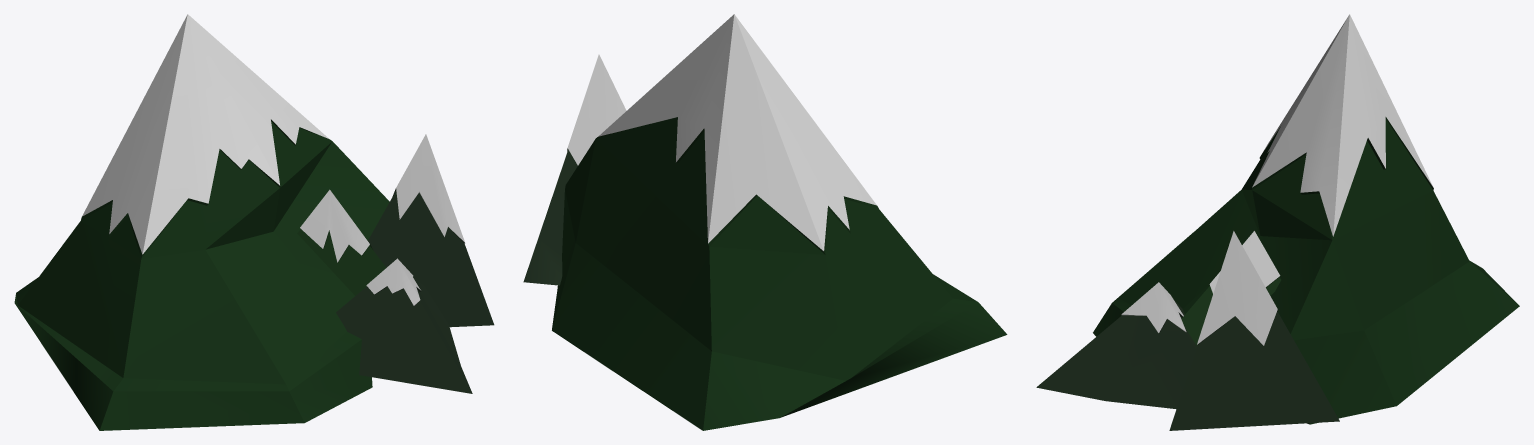
File: e_sierra.fbx
3 views of the same model, side by side, from view 1: azimuth 30°, elevation 25°; view 2: azimuth 150°, elevation 25°; view 3: azimuth 270°, elevation 25° (orthographic). The views are drawn at different scales.
Parts seen in each view (by area): view 1: e_sierra; view 2: e_sierra; view 3: e_sierra.
Part boxes in pixels (left/top/right/bottom): e_sierra: left=14, top=14, right=494, bottom=430; e_sierra: left=523, top=14, right=1007, bottom=430; e_sierra: left=1036, top=14, right=1519, bottom=430.
Bounding box in the file's own units: 340 × 263 × 357.
